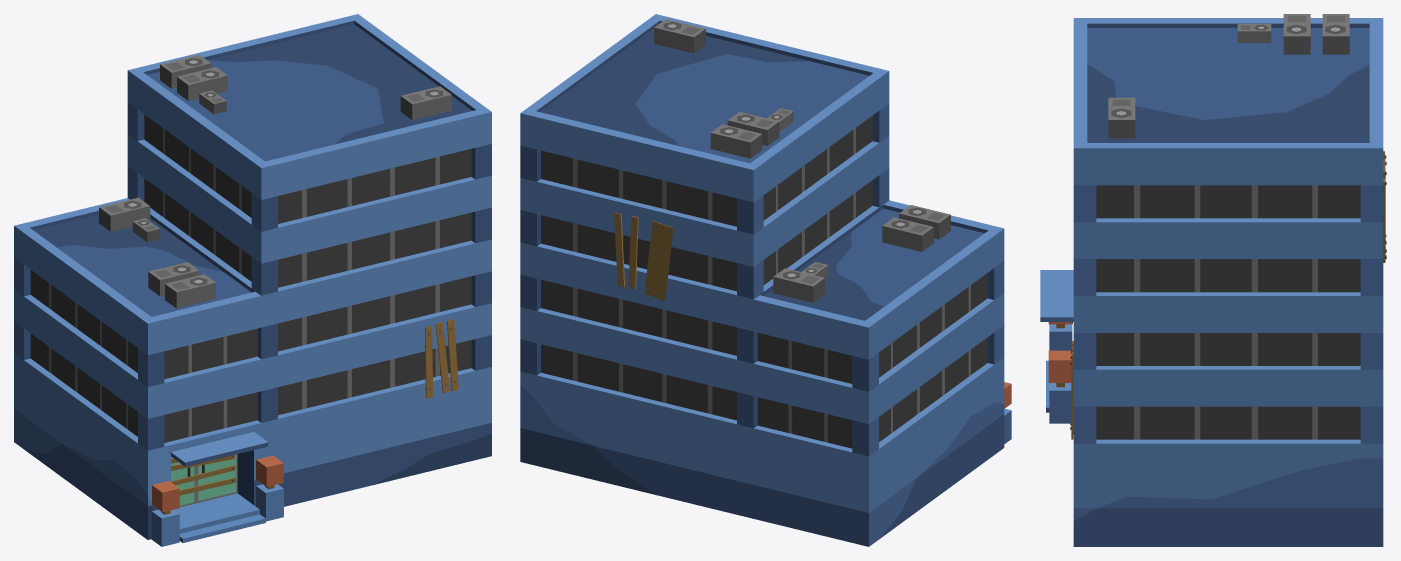
The model's file is SA_Bld_OfficeBlue_04.gltf.
The picture shows the model from 3 angles, left to right: view 1: azimuth 30°, elevation 25°; view 2: azimuth 150°, elevation 25°; view 3: azimuth 270°, elevation 25°; orthographic projection. The views are drawn at different scales.
Visible parts, largest first — view 1: SA_Bld_OfficeBlue_04; view 2: SA_Bld_OfficeBlue_04; view 3: SA_Bld_OfficeBlue_04.
Part boxes in pixels (x1,y1,x2,y2): SA_Bld_OfficeBlue_04: (14, 14, 491, 546); SA_Bld_OfficeBlue_04: (520, 14, 1011, 546); SA_Bld_OfficeBlue_04: (1040, 14, 1386, 546).
Bounding box in the file's own units: 20.34 × 20.13 × 15.31.
Materials: 1 (1 with a texture image).
